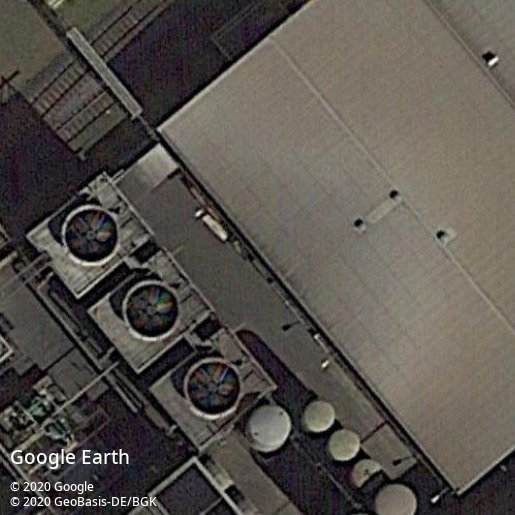Vent: (61, 205, 121, 266), (123, 281, 182, 340), (185, 358, 243, 418)
